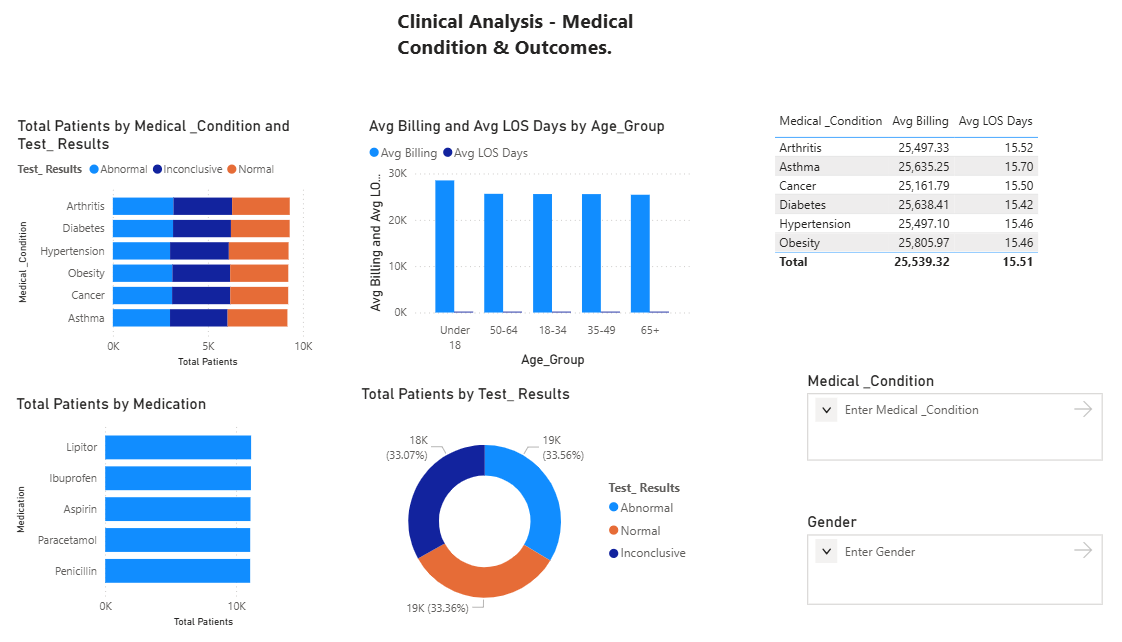

What the dashboard file says about the page in this screenshot:
{"tool":"powerbi","page":{"name":"Clinical","canvas":[1280,720],"ordinal":1},"visuals":[{"type":"barChart","fields":{"Category":["Patientdata.Medical _Condition"],"Y":["Patientdata.Total Patients"],"Series":["Patientdata.Test_ Results"]},"box":[32.9,140,333.4,279.9],"z":0},{"type":"clusteredColumnChart","fields":{"Category":["Patientdata.Age_Group"],"Y":["Patientdata.Avg Billing","Patientdata.Avg LOS Days"]},"box":[418.5,140,362.3,279.9],"z":1},{"type":"tableEx","fields":{"Values":["Patientdata.Medical _Condition","Patientdata.Avg Billing","Patientdata.Avg LOS Days"]},"box":[863.1,129,333.4,212.7],"z":2},{"type":"clusteredBarChart","fields":{"Category":["Patientdata.Medication"],"Y":["Patientdata.Total Patients"]},"box":[31.6,444.6,333.4,260.7],"z":3},{"type":"donutChart","fields":{"Category":["Patientdata.Test_ Results"],"Y":["Patientdata.Total Patients"]},"box":[410.3,433.6,377.4,282.7],"z":4},{"type":"textSlicer","fields":{"Values":["Patientdata.Medical _Condition"]},"box":[900.2,419.9,333.4,102.9],"z":5},{"type":"textSlicer","fields":{"Values":["Patientdata.Gender"]},"box":[900.2,575,333.4,105.7],"z":6},{"type":"textbox","box":[450.1,15.1,299.1,76.8],"z":7}]}

Visuals, with their boxes in screenshot pixels (x1, y1, x2, y2), scaled from the page's 1280x720 canvas onto the 1122x642 screenshot:
barChart - Patientdata.Medical _Condition x Patientdata.Total Patients: l=29, t=125, r=321, b=374
clusteredColumnChart - Patientdata.Age_Group x Patientdata.Avg Billing: l=367, t=125, r=684, b=374
tableEx - Patientdata.Medical _Condition x Patientdata.Avg Billing: l=757, t=115, r=1049, b=305
clusteredBarChart - Patientdata.Medication x Patientdata.Total Patients: l=28, t=396, r=320, b=629
donutChart - Patientdata.Test_ Results x Patientdata.Total Patients: l=360, t=387, r=690, b=639
textSlicer - Patientdata.Medical _Condition: l=789, t=374, r=1081, b=466
textSlicer - Patientdata.Gender: l=789, t=513, r=1081, b=607
textbox: l=395, t=13, r=657, b=82
